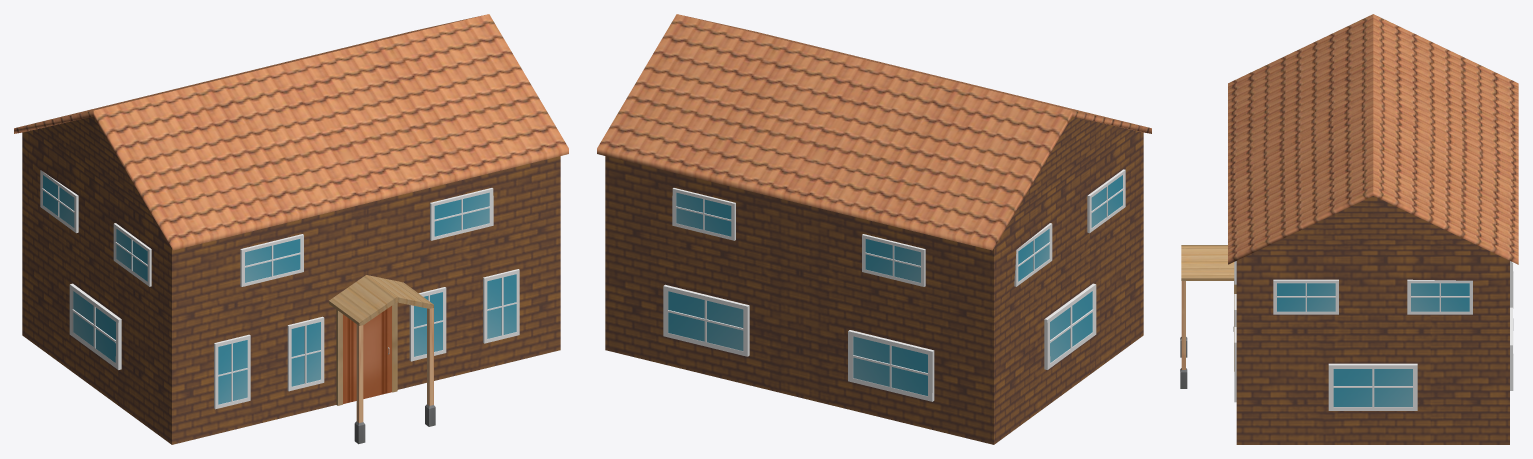
The model's file is Wide_Custom_House_01.fbx.
3 views of the same model, side by side, from view 1: azimuth 30°, elevation 25°; view 2: azimuth 150°, elevation 25°; view 3: azimuth 270°, elevation 25° (orthographic). The views are drawn at different scales.
Visible parts, largest first — view 1: OutsideWalls_1_2, Roof_1, FramesWindows_1_1, Addon_1, Door_1, FrameDoor_1_1; view 2: OutsideWalls_1_2, Roof_1, FramesWindows_1_1; view 3: OutsideWalls_1_2, Roof_1, FramesWindows_1_1, Addon_1.
Part boxes in pixels (x1,y1,x2,y2): OutsideWalls_1_2: [22, 116, 560, 444]; Roof_1: [14, 14, 568, 250]; FramesWindows_1_1: [40, 170, 519, 409]; Addon_1: [329, 275, 435, 444]; Door_1: [343, 306, 391, 403]; FrameDoor_1_1: [336, 302, 397, 405]; OutsideWalls_1_2: [605, 116, 1143, 444]; Roof_1: [597, 14, 1151, 250]; FramesWindows_1_1: [663, 169, 1125, 401]; OutsideWalls_1_2: [1236, 196, 1509, 444]; Roof_1: [1228, 14, 1518, 264]; FramesWindows_1_1: [1234, 261, 1513, 410]; Addon_1: [1180, 245, 1234, 388].
Size of the model in its own units: 0.5497 by 0.392 by 0.4461.
